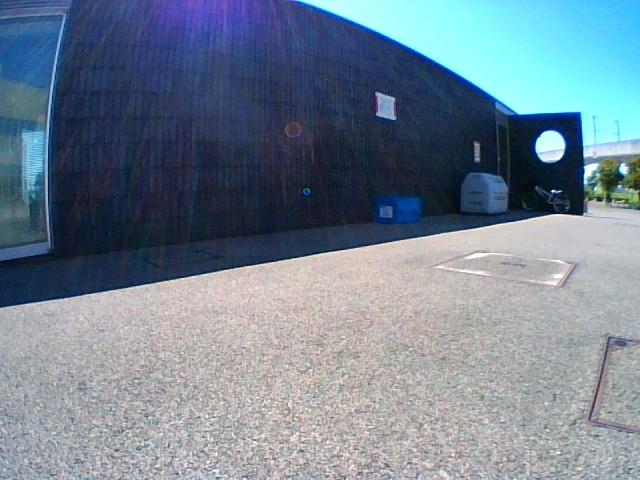blue_box: (374, 197, 418, 223)
tag: (380, 206, 392, 217)
